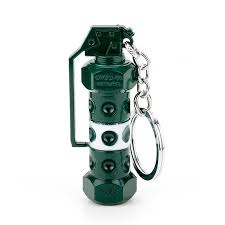e1: (67, 23, 166, 206)
